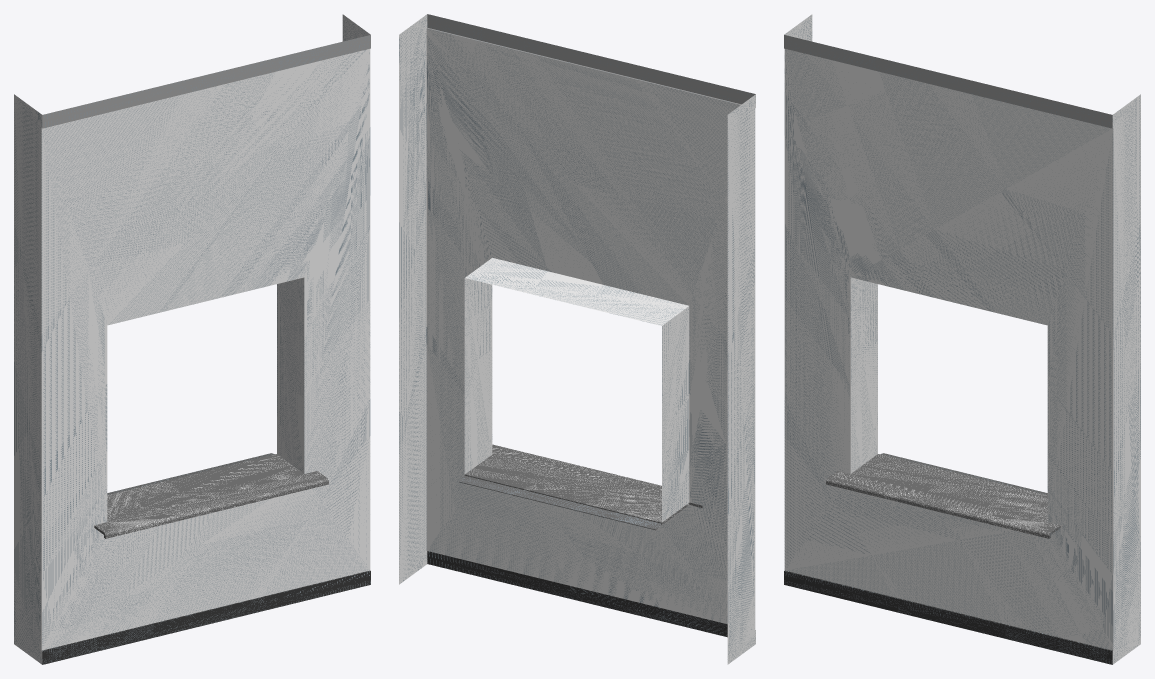
The model's file is WindowBlock_os_plinth_[250x400]_150x143x[090].dae.
3 renders of one model, left to right at view 1: azimuth 30°, elevation 25°; view 2: azimuth 150°, elevation 25°; view 3: azimuth 330°, elevation 25°, orthographic.
Visible parts, largest first — view 1: group_1 (×4), group_2; view 2: group_1 (×4), group_2 (×2); view 3: group_1 (×4), group_2.
Part boxes in pixels (x1=…): group_1 (×4): x1=14, y1=14, x2=370, y2=664; group_2: x1=94, y1=454, x2=328, y2=538; group_1 (×4): x1=399, y1=14, x2=755, y2=664; group_2 (×2): x1=459, y1=444, x2=702, y2=530; group_1 (×4): x1=784, y1=14, x2=1140, y2=664; group_2: x1=826, y1=454, x2=1060, y2=538.
Bounding box in the file's own units: 98.43 × 23.03 × 157.
